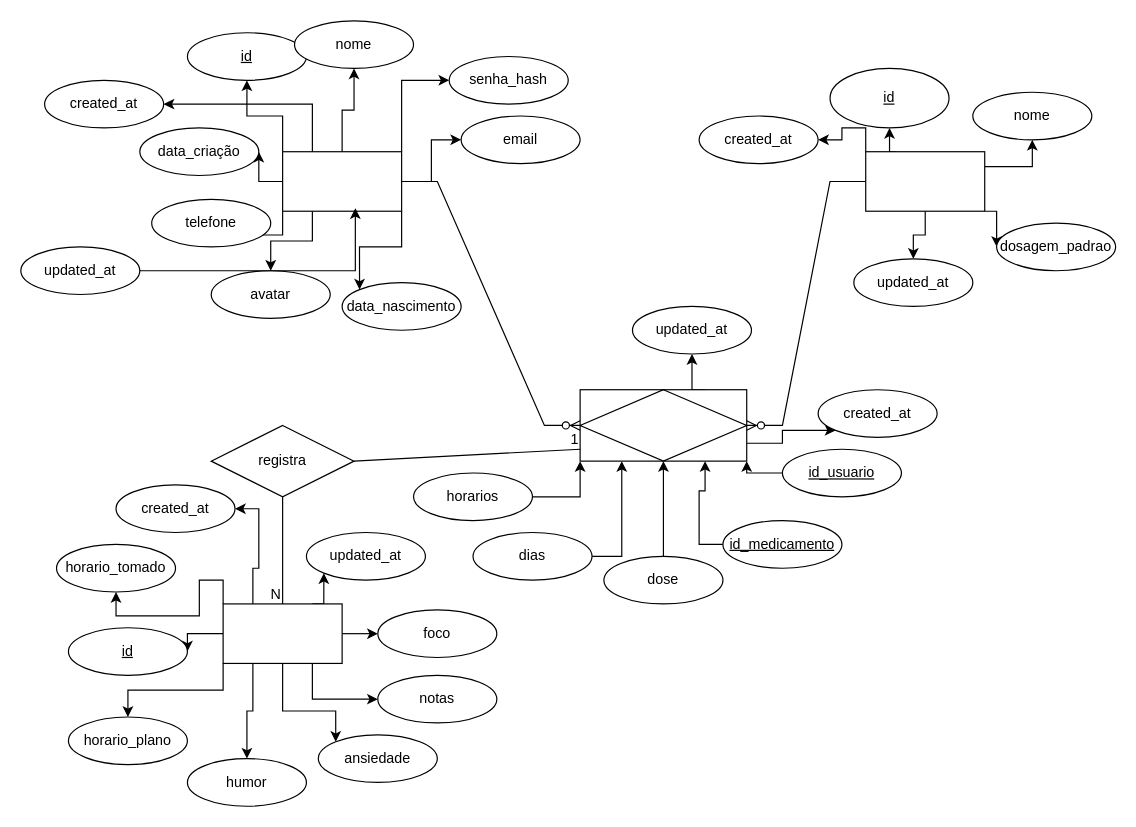
This 1136x827 diagram has some shape labels left out. The centre of each missing label's shape, as x and y in pixels:
"Medicamento" goes at point (925, 181).
"Registros_Doses" goes at point (282, 633).
"Tratamento" goes at point (663, 425).
"Usuário" goes at point (341, 181).
